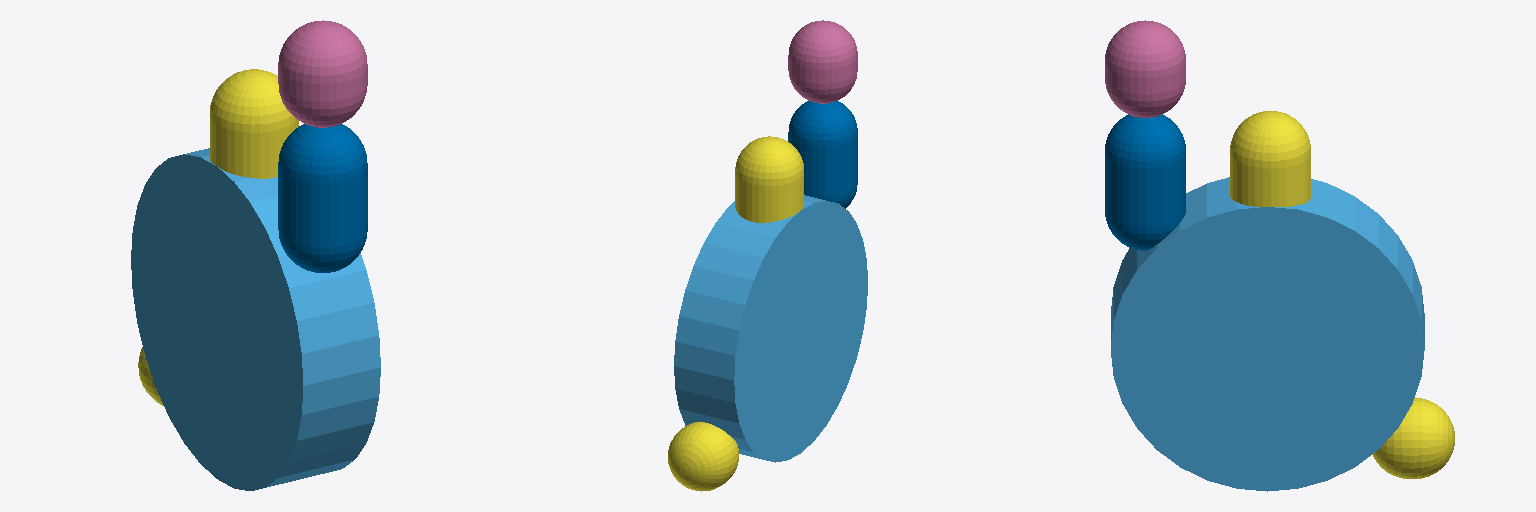
robot.urdf — DexterousHand:
<?xml version="1.0"?>
<robot name="DexterousHand">


    <link name="world"/>
    <joint name="world_to_palm" type="fixed">
        <parent link="world"/>
        <child link="palm"/>
        <origin xyz="0 0 0" rpy="0 0 0"/>
    </joint>
    <link name="palm">
        <inertial>
            <origin xyz="0 0 0.057" rpy="0 0 0"/>
            <mass value="0.30212892864"/>
            <inertia ixx="0.00049080844457568" ixy="0.0" ixz="0.0" iyy="0.00026746366246427523" iyz="0.0" izz="0.00026746366246427523"/>
        </inertial>
        <visual>
            <origin xyz="0 0 0.057" rpy="1.5708 0 1.5708"/>
            <geometry>
                <cylinder radius="0.057" length="0.0296"/>
            </geometry>
            <material name="default"/>
        </visual>
        <collision>
            <origin xyz="0 0 0.057" rpy="1.5708 0 1.5708"/>
            <geometry>
                <cylinder radius="0.057" length="0.0296"/>
            </geometry>
        </collision>
    </link>

    
    <joint name="thumb_joint1" type="revolute">
        <parent link="palm"/>
        <child link="thumb_base"/>
        <origin xyz="0.0029 0.0368 0.0157" rpy="-1.5708 -1.5708 0.0"/>
        <axis xyz="-1 0 0"/>
        <limit lower="-0.349" upper="2.094" effort="1.0" velocity="1.0"/>
    </joint>

    <link name="thumb_base"></link>

    <joint name="thumb_joint2" type="revolute">
        <parent link="thumb_base"/>
        <child link="thumb_proximal"/>
        <origin xyz="0.0 0.0 0.0" rpy="0.0 0.0 0.0"/>
        <axis xyz="0 0 1"/>
        <limit lower="-0.47" upper="2.443" effort="1.0" velocity="1.0"/>
    </joint>

    <link name="thumb_proximal">
        <inertial>
            <origin xyz="0 0 0.01565" rpy="0 0 0"/>
            <mass value="0.021538658803200002"/>
            <inertia ixx="2.9378910096388167e-06" ixy="0.0" ixz="0.0" 
            iyy="2.9378910096388167e-06" iyz="0.0" izz="2.358913912126464e-06"/>
        </inertial>
        <visual>
            <origin xyz="0 0 0.01565" rpy="0 0 0"/>
            <geometry>
                <cylinder radius="0.0148" length="0.0017000000000000001"/>
            </geometry>
            <material name="default"/>
        </visual>
        <visual>
            <origin xyz="0 0 0.0148" rpy="0 0 0"/>
            <geometry>
                <sphere radius="0.0148"/>
            </geometry>
            <material name="default"/>
        </visual>
        <visual>
            <origin xyz="0 0 0.0165" rpy="0 0 0"/>
            <geometry>
                <sphere radius="0.0148"/>
            </geometry>
            <material name="default"/>
        </visual>
        <collision>
            <origin xyz="0 0 0.01565" rpy="0 0 0"/>
            <geometry>
                <cylinder radius="0.0148" length="0.0017000000000000001"/>
            </geometry>
        </collision>
        <collision>
            <origin xyz="0 0 0.0148" rpy="0 0 0"/>
            <geometry>
                <sphere radius="0.0148"/>
            </geometry>
        </collision>
        <collision>
            <origin xyz="0 0 0.0165" rpy="0 0 0"/>
            <geometry>
                <sphere radius="0.0148"/>
            </geometry>
        </collision>
    </link>

    <joint name="thumb_joint3" type="revolute">
        <parent link="thumb_proximal"/>
        <child link="thumb_knuckle"/>
        <origin xyz="0.0 0.0 0.0" rpy="0.0 0.0 0.0"/>
        <axis xyz="1 0 0"/>
        <limit lower="0.0" upper="0.0" effort="1.0" velocity="1.0"/>
    </joint>

    <link name="thumb_knuckle"></link>

    <joint name="thumb_joint4" type="revolute">
        <parent link="thumb_knuckle"/>
        <child link="thumb_middle"/>
        <origin xyz="0 0 0" rpy="0 0 0"/> 
        <axis xyz="0 1 0"/>
        <limit lower="0.0" upper="0.0" effort="1.0" velocity="1.0"/>
    </joint>

    <link name="thumb_middle">
    </link>

    <joint name="thumb_joint5" type="revolute">
        <parent link="thumb_middle"/>
        <child link="thumb_distal"/>
        <origin xyz="0 0 0" rpy="0 0 0"/> 
        <axis xyz="0 1 0"/>
        <limit lower="0.0" upper="0.0" effort="1.0" velocity="1.0"/>
    </joint>

    <link name="thumb_distal">
    </link>

    
    <joint name="index_joint1" type="revolute">
        <parent link="palm"/>
        <child link="index_proximal"/>
        <origin xyz="0.0 0.0 0.0" rpy="0.0 0.0 0.0"/>
        <axis xyz="1 0 0"/>
        <limit lower="0.0" upper="0.0" effort="1.0" velocity="1.0"/>
    </joint>

    <link name="index_proximal">
    </link>

    <joint name="index_joint2" type="revolute">
        <parent link="index_proximal"/>
        <child link="index_dummy"/>
        <origin xyz="0.0 0.0 0.0" rpy="0.0 0.0 0.0"/>
        <axis xyz="0 1 0"/>
        <limit lower="0.0" upper="0.0" effort="1.0" velocity="1.0"/>
    </joint>

    <link name="index_dummy"></link>

    <joint name="index_joint3" type="revolute">
        <parent link="index_dummy"/>
        <child link="index_middle"/>
        <origin xyz="0 0 0" rpy="0 0 0"/>
        <axis xyz="0 1 0"/>
        <limit lower="0.0" upper="0.0" effort="1.0" velocity="1.0"/>
    </joint>

    <link name="index_middle">
    </link>

    <joint name="index_joint4" type="revolute">
        <parent link="index_middle"/>
        <child link="index_distal"/>
        <origin xyz="0 0 0" rpy="0 0 0"/> 
        <axis xyz="0 1 0"/>
        <limit lower="0.0" upper="0.0" effort="1.0" velocity="1.0"/>
    </joint>

    <link name="index_distal">
    </link>

    
    <joint name="middle_joint1" type="revolute">
        <parent link="palm"/>
        <child link="middle_proximal"/>
        <origin xyz="0.0 0.0011 0.091" rpy="0.0 0.0 0.0"/>
        <axis xyz="0 1 0"/>
        <limit lower="-0.314" upper="2.23" effort="1.0" velocity="1.0"/>
    </joint>

    <link name="middle_proximal">
        <inertial>
            <origin xyz="0 0 0.02655" rpy="0 0 0"/>
            <mass value="0.036540024998400006"/>
            <inertia ixx="1.058665009272394e-05" ixy="0.0" ixz="0.0" 
            iyy="1.058665009272394e-05" iyz="0.0" izz="4.001863537824769e-06"/>
        </inertial>
        <visual>
            <origin xyz="0 0 0.02655" rpy="0 0 0"/>
            <geometry>
                <cylinder radius="0.0148" length="0.0235"/>
            </geometry>
            <material name="default"/>
        </visual>
        <visual>
            <origin xyz="0 0 0.0148" rpy="0 0 0"/>
            <geometry>
                <sphere radius="0.0148"/>
            </geometry>
            <material name="default"/>
        </visual>
        <visual>
            <origin xyz="0 0 0.0383" rpy="0 0 0"/>
            <geometry>
                <sphere radius="0.0148"/>
            </geometry>
            <material name="default"/>
        </visual>
        <collision>
            <origin xyz="0 0 0.02655" rpy="0 0 0"/>
            <geometry>
                <cylinder radius="0.0148" length="0.0235"/>
            </geometry>
        </collision>
        <collision>
            <origin xyz="0 0 0.0148" rpy="0 0 0"/>
            <geometry>
                <sphere radius="0.0148"/>
            </geometry>
        </collision>
        <collision>
            <origin xyz="0 0 0.0383" rpy="0 0 0"/>
            <geometry>
                <sphere radius="0.0148"/>
            </geometry>
        </collision>
    </link>

    <joint name="middle_joint2" type="revolute">
        <parent link="middle_proximal"/>
        <child link="middle_dummy"/>
        <origin xyz="0.0 0.0 0.038" rpy="0.0 0.0 0.0"/>
        <axis xyz="0 1 0"/>
        <limit lower="0.0" upper="0.0" effort="1.0" velocity="1.0"/>
    </joint>

    <link name="middle_dummy"></link>

    <joint name="middle_joint3" type="revolute">
        <parent link="middle_dummy"/>
        <child link="middle_middle"/>
        <origin xyz="0 0 0.015100000000000002" rpy="0 0 0"/>
        <axis xyz="0 1 0"/>
        <limit lower="0.0" upper="0.0" effort="1.0" velocity="1.0"/>
    </joint>

    <link name="middle_middle">
    </link>

    <joint name="middle_joint4" type="revolute">
        <parent link="middle_middle"/>
        <child link="middle_distal"/>
        <origin xyz="0 0 0" rpy="0 0 0"/> 
        <axis xyz="0 1 0"/>
        <limit lower="0.0" upper="0.0" effort="1.0" velocity="1.0"/>
    </joint>

    <link name="middle_distal">
    </link>

    
    <joint name="ring_joint1" type="revolute">
        <parent link="palm"/>
        <child link="ring_proximal"/>
        <origin xyz="0.0 0.0 0.0" rpy="0.0 0.0 0.0"/>
        <axis xyz="1 0 0"/>
        <limit lower="0.0" upper="0.0" effort="1.0" velocity="1.0"/>
    </joint>

    <link name="ring_proximal">
    </link>

    <joint name="ring_joint2" type="revolute">
        <parent link="ring_proximal"/>
        <child link="ring_dummy"/>
        <origin xyz="0.0 0.0 0.0" rpy="0.0 0.0 0.0"/>
        <axis xyz="0 1 0"/>
        <limit lower="0.0" upper="0.0" effort="1.0" velocity="1.0"/>
    </joint>

    <link name="ring_dummy"></link>

    <joint name="ring_joint3" type="revolute">
        <parent link="ring_dummy"/>
        <child link="ring_middle"/>
        <origin xyz="0 0 0" rpy="0 0 0"/>
        <axis xyz="0 1 0"/>
        <limit lower="0.0" upper="0.0" effort="1.0" velocity="1.0"/>
    </joint>

    <link name="ring_middle">
    </link>

    <joint name="ring_joint4" type="revolute">
        <parent link="ring_middle"/>
        <child link="ring_distal"/>
        <origin xyz="0 0 0" rpy="0 0 0"/> 
        <axis xyz="0 1 0"/>
        <limit lower="0.0" upper="0.0" effort="1.0" velocity="1.0"/>
    </joint>

    <link name="ring_distal">
    </link>

    
    <joint name="little_joint0" type="revolute">
        <parent link="palm"/>
        <child link="little_base"/>
        <origin xyz="0.0 0.0 0.0" rpy="0.0 0.0 0.0"/>
        <axis xyz="0 1 0"/>
        <limit lower="0.0" upper="0.0" effort="1.0" velocity="1.0"/>
    </joint>

    <link name="little_base"></link>

    <joint name="little_joint1" type="revolute">
        <parent link="little_base"/>
        <child link="little_proximal"/>
        <origin xyz="0.0 -0.0443 0.091" rpy="-0.0 -0.0 -0.0"/>
        <axis xyz="0 1 0"/>
        <limit lower="-0.314" upper="2.23" effort="1.0" velocity="1.0"/>
    </joint>

    <link name="little_proximal">
        <inertial>
            <origin xyz="0 0 0.02655" rpy="0 0 0"/>
            <mass value="0.036540024998400006"/>
            <inertia ixx="1.058665009272394e-05" ixy="0.0" ixz="0.0" 
            iyy="1.058665009272394e-05" iyz="0.0" izz="4.001863537824769e-06"/>
        </inertial>
        <visual>
            <origin xyz="0 0 0.02655" rpy="0 0 0"/>
            <geometry>
                <cylinder radius="0.0148" length="0.0235"/>
            </geometry>
            <material name="default"/>
        </visual>
        <visual>
            <origin xyz="0 0 0.0148" rpy="0 0 0"/>
            <geometry>
                <sphere radius="0.0148"/>
            </geometry>
            <material name="default"/>
        </visual>
        <visual>
            <origin xyz="0 0 0.0383" rpy="0 0 0"/>
            <geometry>
                <sphere radius="0.0148"/>
            </geometry>
            <material name="default"/>
        </visual>
        <collision>
            <origin xyz="0 0 0.02655" rpy="0 0 0"/>
            <geometry>
                <cylinder radius="0.0148" length="0.0235"/>
            </geometry>
        </collision>
        <collision>
            <origin xyz="0 0 0.0148" rpy="0 0 0"/>
            <geometry>
                <sphere radius="0.0148"/>
            </geometry>
        </collision>
        <collision>
            <origin xyz="0 0 0.0383" rpy="0 0 0"/>
            <geometry>
                <sphere radius="0.0148"/>
            </geometry>
        </collision>
    </link>

    <joint name="little_joint2" type="revolute">
        <parent link="little_proximal"/>
        <child link="little_dummy"/>
        <origin xyz="0.0 0.0 0.038" rpy="0.0 0.0 0.0"/>
        <axis xyz="1 0 0"/>
        <limit lower="-1.047" upper="1.047" effort="1.0" velocity="1.0"/>
    </joint>

    <link name="little_dummy"></link>

    <joint name="little_joint3" type="revolute">
        <parent link="little_dummy"/>
        <child link="little_middle"/>
        <origin xyz="0 0 0.015100000000000002" rpy="0 0 0"/>
        <axis xyz="0 1 0"/>
        <limit lower="-0.506" upper="1.885" effort="1.0" velocity="1.0"/>
    </joint>

    <link name="little_middle">
        <inertial>
            <origin xyz="0 0 0.01805" rpy="0 0 0"/>
            <mass value="0.0248417119104"/>
            <inertia ixx="4.058162759109537e-06" ixy="0.0" ixz="0.0" 
            iyy="4.058162759109537e-06" iyz="0.0" izz="2.7206642884270085e-06"/>
        </inertial>
        <visual>
            <origin xyz="0 0 0.01805" rpy="0 0 0"/>
            <geometry>
                <cylinder radius="0.0148" length="0.006499999999999999"/>
            </geometry>
            <material name="default"/>
        </visual>
        <visual>
            <origin xyz="0 0 0.0148" rpy="0 0 0"/>
            <geometry>
                <sphere radius="0.0148"/>
            </geometry>
            <material name="default"/>
        </visual>
        <visual>
            <origin xyz="0 0 0.0213" rpy="0 0 0"/>
            <geometry>
                <sphere radius="0.0148"/>
            </geometry>
            <material name="default"/>
        </visual>
        <collision>
            <origin xyz="0 0 0.01805" rpy="0 0 0"/>
            <geometry>
                <cylinder radius="0.0148" length="0.006499999999999999"/>
            </geometry>
        </collision>
        <collision>
            <origin xyz="0 0 0.0148" rpy="0 0 0"/>
            <geometry>
                <sphere radius="0.0148"/>
            </geometry>
        </collision>
        <collision>
            <origin xyz="0 0 0.0213" rpy="0 0 0"/>
            <geometry>
                <sphere radius="0.0148"/>
            </geometry>
        </collision>
    </link>

    <joint name="little_joint4" type="revolute">
        <parent link="little_middle"/>
        <child link="little_distal"/>
        <origin xyz="0 0 0.0361" rpy="0 0 0"/>
        <axis xyz="0 1 0"/>
        <limit lower="0.0" upper="0.0" effort="1.0" velocity="1.0"/>
    </joint>

    <link name="little_distal">
    </link>

</robot>

--- Render facts (derived) ---
Views: 3 orthographic renders of the robot side by side, from view 1: azimuth 30°, elevation 25°; view 2: azimuth 150°, elevation 25°; view 3: azimuth 270°, elevation 25°.
Model DexterousHand with 24 links and 23 joints (22 revolute, 1 fixed), rooted at world, posed every joint at zero.
Visible links, largest first — view 1: palm, little_proximal, little_middle, middle_proximal; view 2: palm, little_proximal, middle_proximal, little_middle, thumb_proximal; view 3: palm, little_proximal, middle_proximal, little_middle, thumb_proximal.
Link boxes in pixels (left/top/right/bottom): palm: left=131, top=148, right=380, bottom=490; little_proximal: left=278, top=124, right=367, bottom=272; little_middle: left=278, top=20, right=367, bottom=127; middle_proximal: left=210, top=69, right=298, bottom=178; palm: left=674, top=195, right=867, bottom=462; little_proximal: left=788, top=101, right=857, bottom=208; middle_proximal: left=735, top=136, right=803, bottom=222; little_middle: left=788, top=20, right=857, bottom=103; thumb_proximal: left=668, top=422, right=738, bottom=491; palm: left=1111, top=177, right=1424, bottom=491; little_proximal: left=1105, top=114, right=1185, bottom=250; middle_proximal: left=1230, top=111, right=1310, bottom=206; little_middle: left=1105, top=20, right=1185, bottom=117; thumb_proximal: left=1372, top=398, right=1454, bottom=478.
Size in the robot's own frame: 0.0325 by 0.1272 by 0.1802 metres.
Geometry: primitives only (box / cylinder / sphere), no mesh files.
